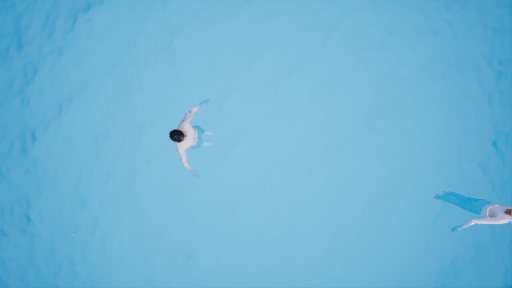person: (164, 94, 220, 175), (435, 183, 512, 235)
